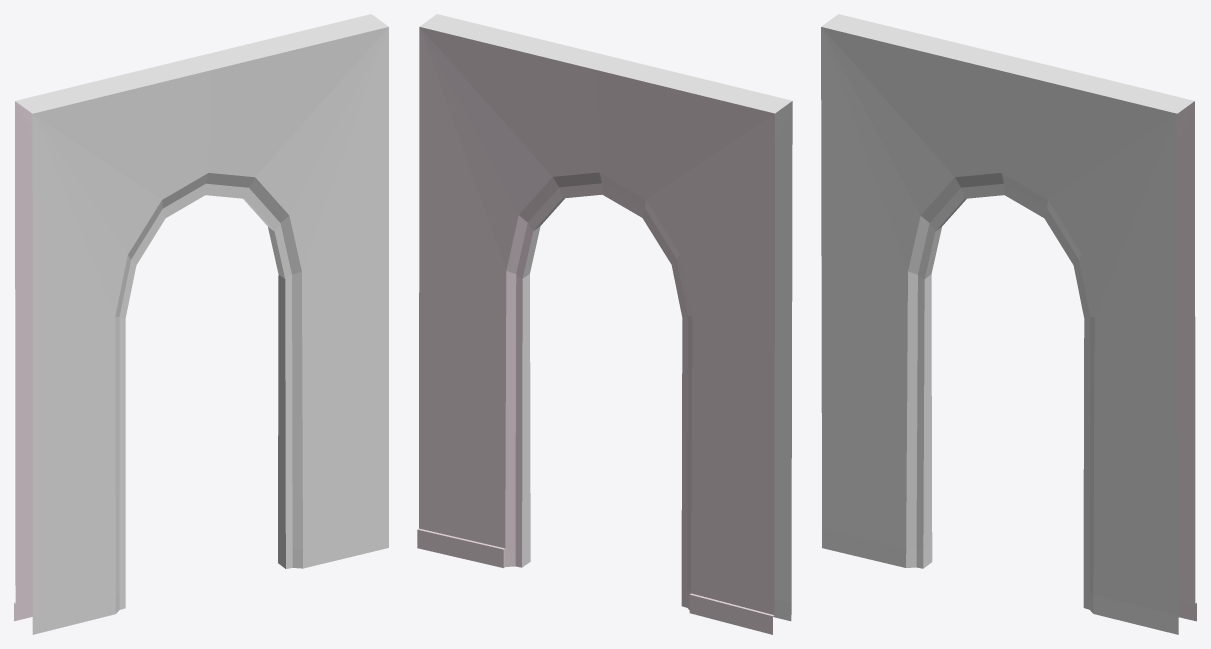
Rendered from env_wall_door_ext.fbx.
3 renders of one model, left to right at view 1: azimuth 30°, elevation 25°; view 2: azimuth 150°, elevation 25°; view 3: azimuth 330°, elevation 25°, orthographic.
Parts seen in each view (by area): view 1: Casa pared arco marco puerta exterior; view 2: Casa pared arco marco puerta exterior; view 3: Casa pared arco marco puerta exterior.
Boxes of the visible parts, x1=… form: Casa pared arco marco puerta exterior: x1=14, y1=14, x2=388, y2=634; Casa pared arco marco puerta exterior: x1=417, y1=14, x2=792, y2=634; Casa pared arco marco puerta exterior: x1=821, y1=14, x2=1196, y2=634.
Size of the model in its own units: 201 by 280 by 18.56.
2 materials, 2 textured.
